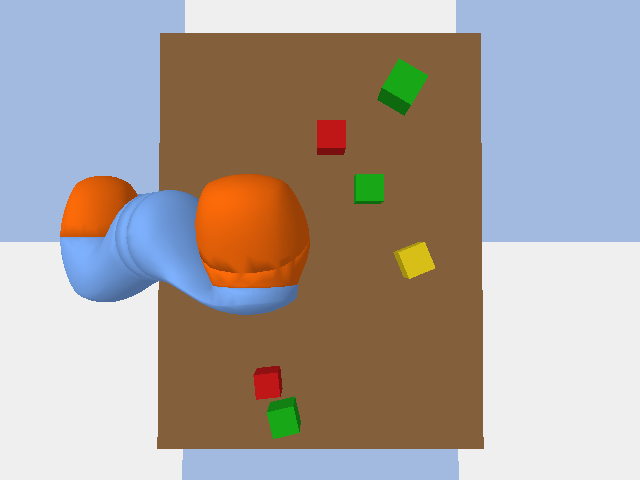green_obj: (377, 58, 427, 115), (267, 396, 300, 438), (354, 174, 383, 203)
red_obj: (253, 366, 282, 399), (317, 120, 345, 154)
yellow_obj: (393, 242, 434, 278)
